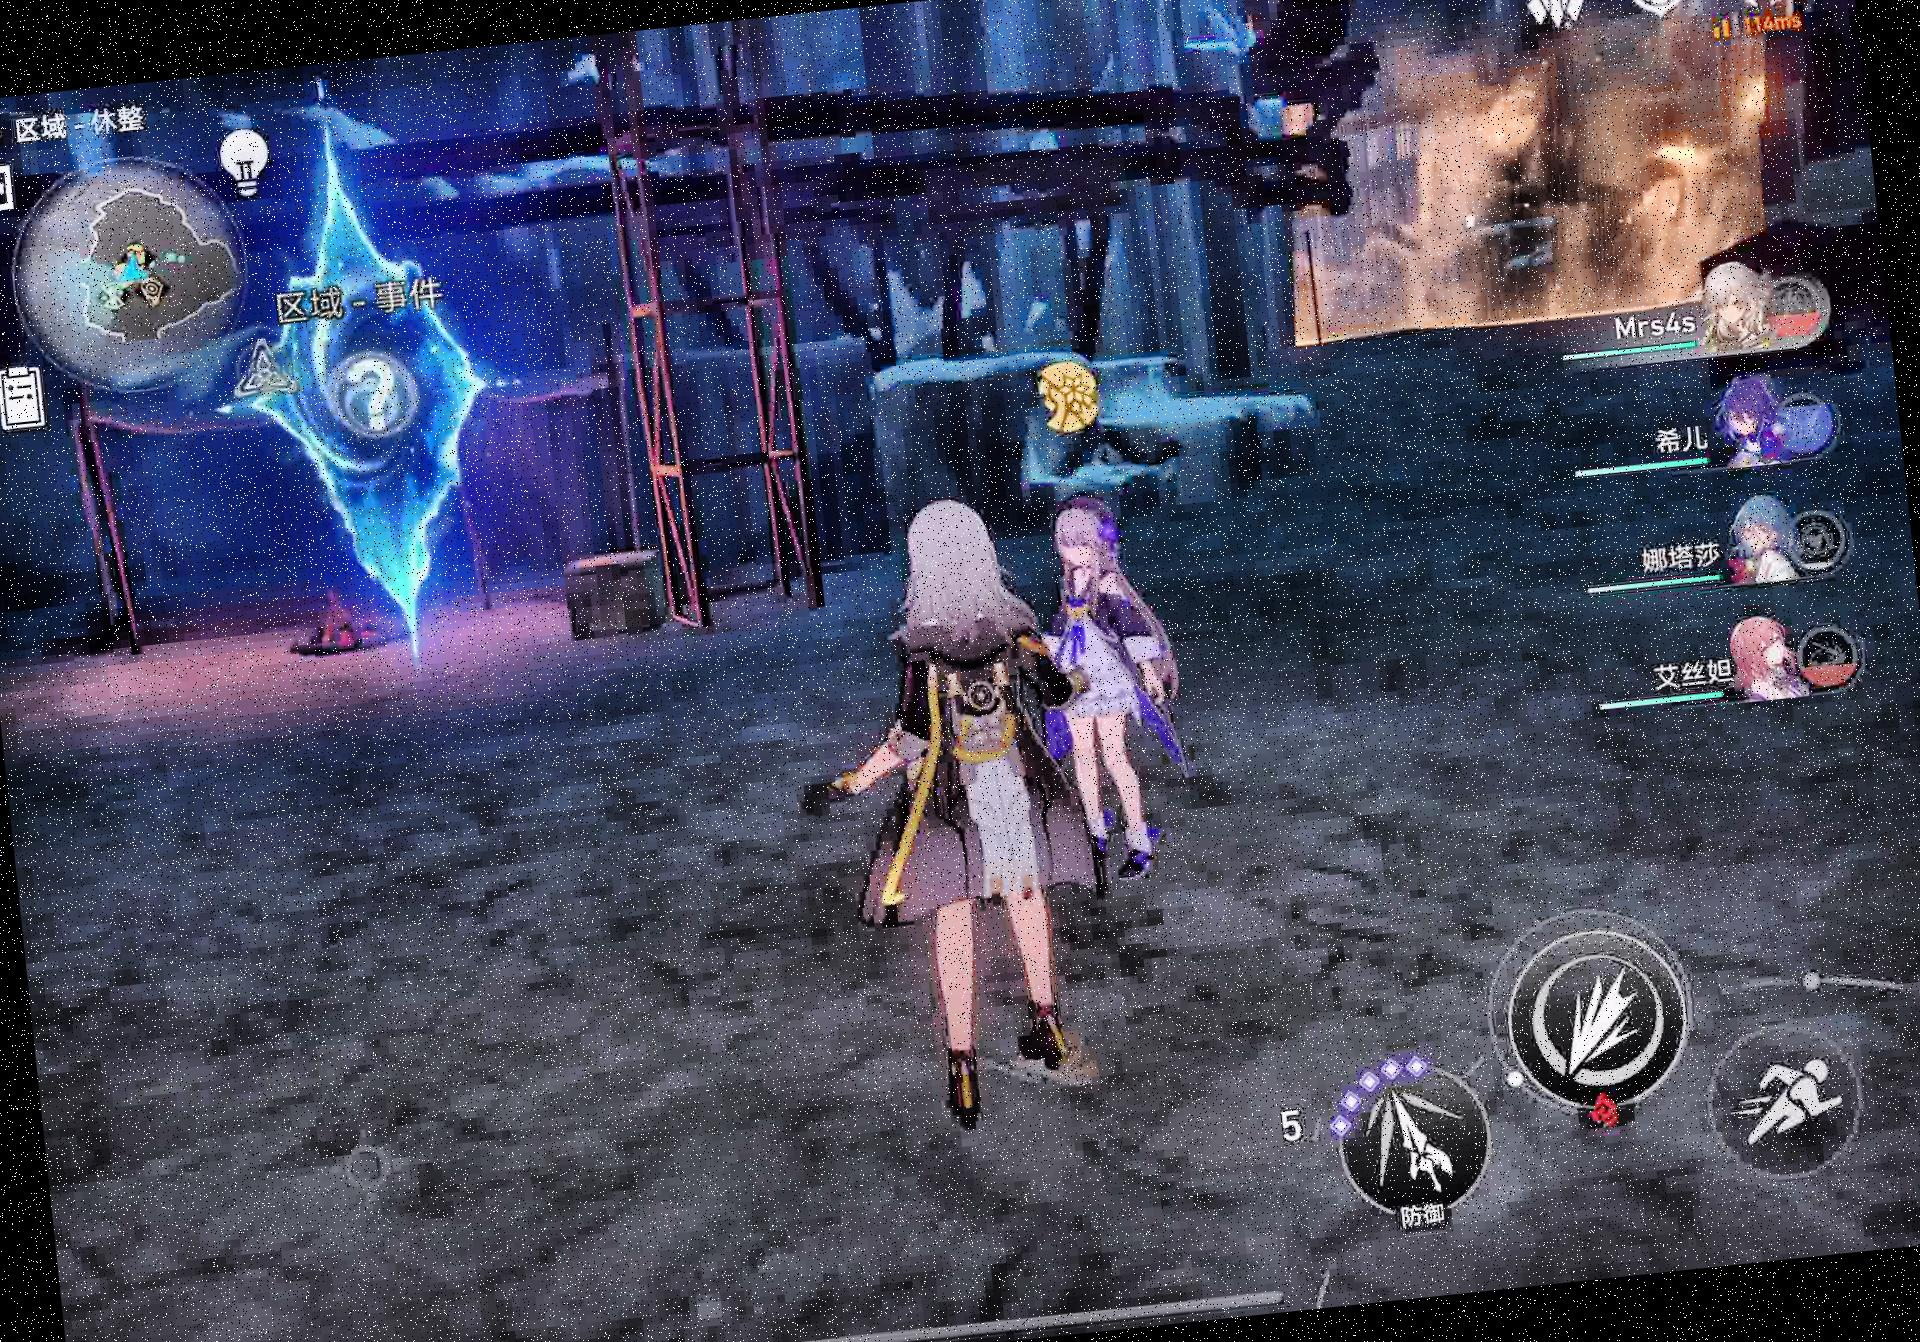EventDoor: (178, 155, 550, 693)
Self: (794, 490, 1120, 1152)
TeamMate: (1037, 489, 1204, 896)
